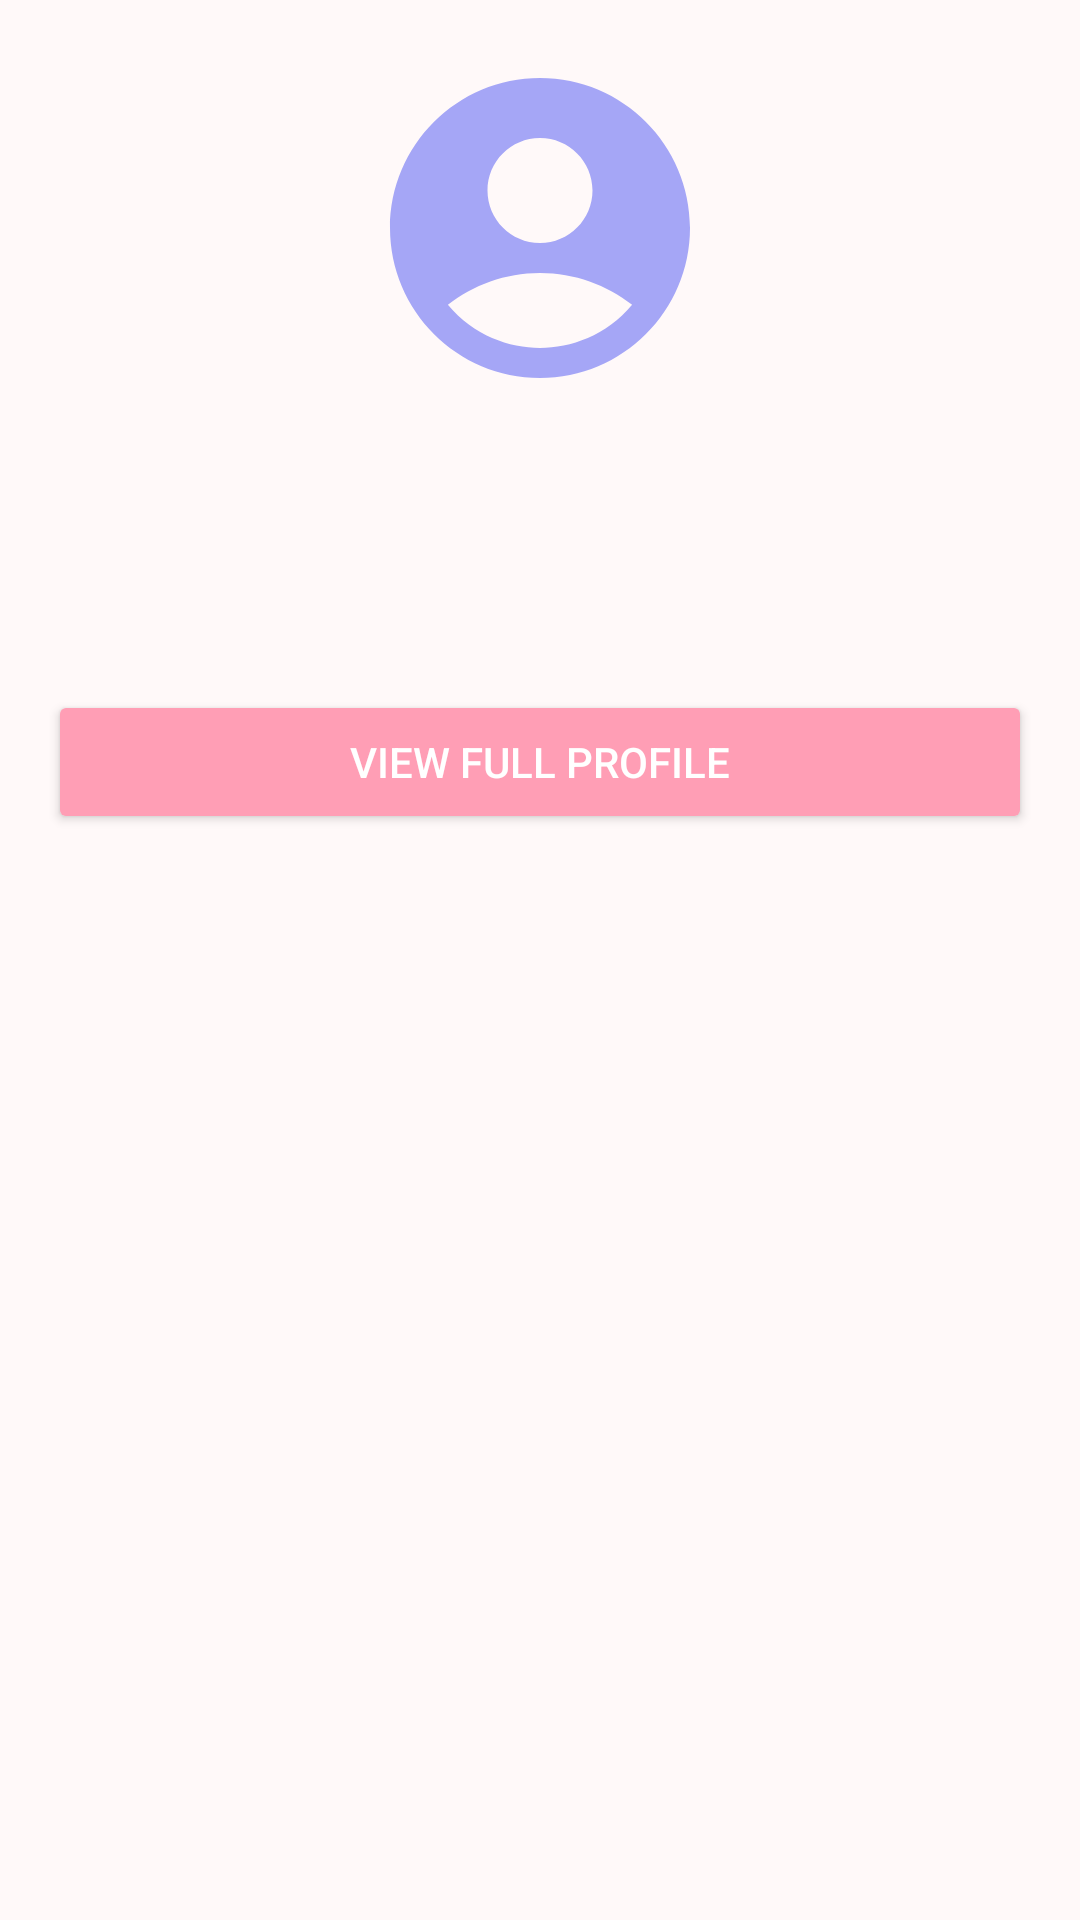

Icon bounding boxes for this 1080 x 1920 phone screenshot, format (x1, y1, x2, y2):
profile: (390, 78, 690, 378)
